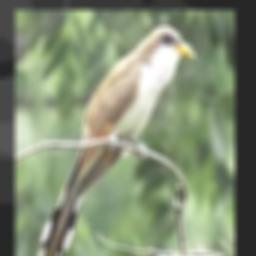Cuckoo: (36, 26, 194, 256)
